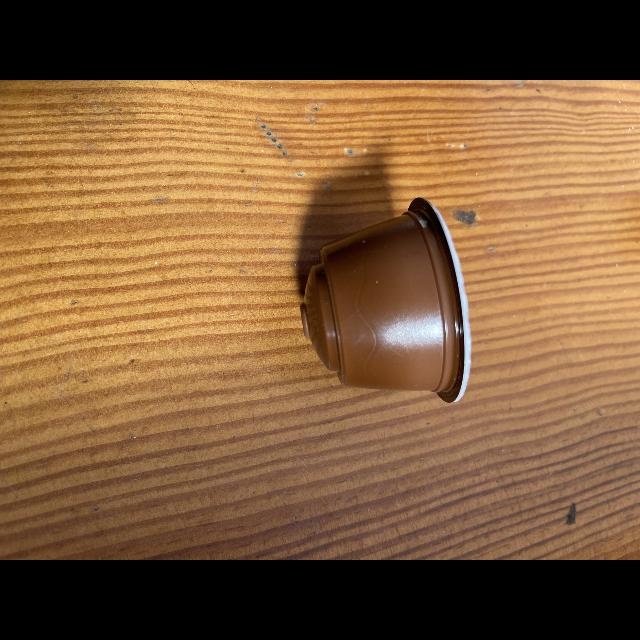intact_capsule: (292, 186, 492, 420)
